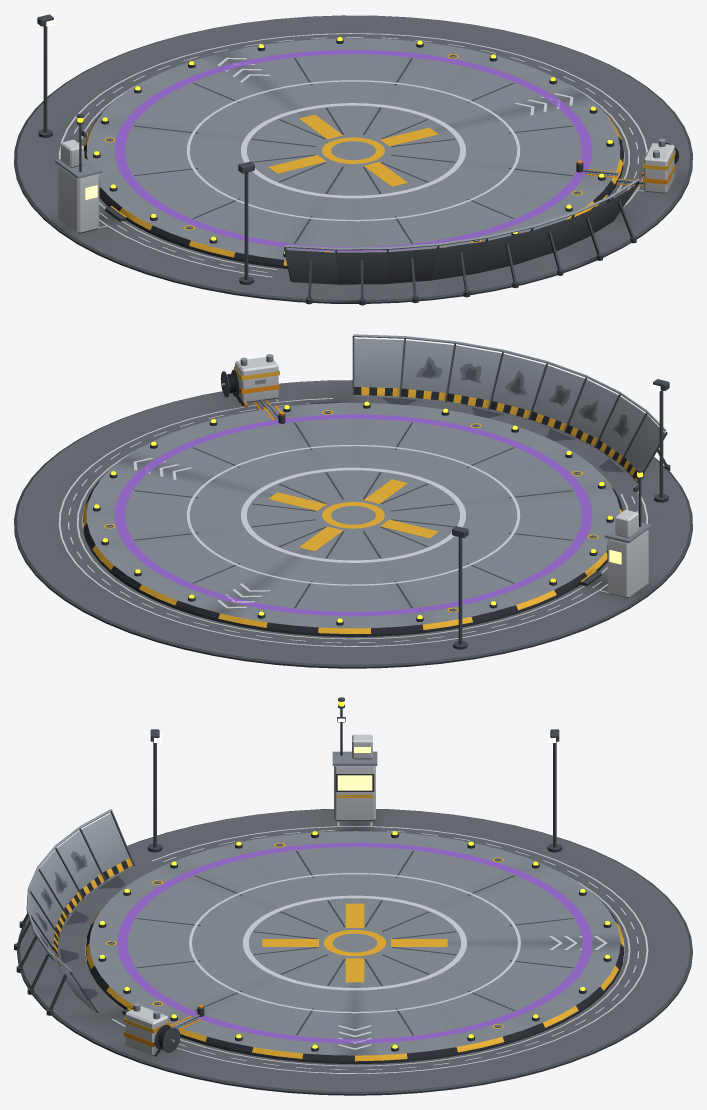
File: landing_pad.glb
3 views of the same model, one above another, from view 1: azimuth 30°, elevation 25°; view 2: azimuth 150°, elevation 25°; view 3: azimuth 270°, elevation 25° (orthographic).
Parts seen in each view (by area): view 1: Base, Lights; view 2: Base, Lights; view 3: Base, Lights.
Boxes of the visible parts, x1=… form: Base: x1=14, y1=14, x2=692, y2=305; Lights: x1=46, y1=18, x2=612, y2=253; Base: x1=14, y1=334, x2=692, y2=668; Lights: x1=94, y1=383, x2=660, y2=622; Base: x1=14, y1=697, x2=692, y2=1095; Lights: x1=99, y1=701, x2=610, y2=1048.
Bounding box in the file's own units: 22.6 × 4.43 × 22.7.
